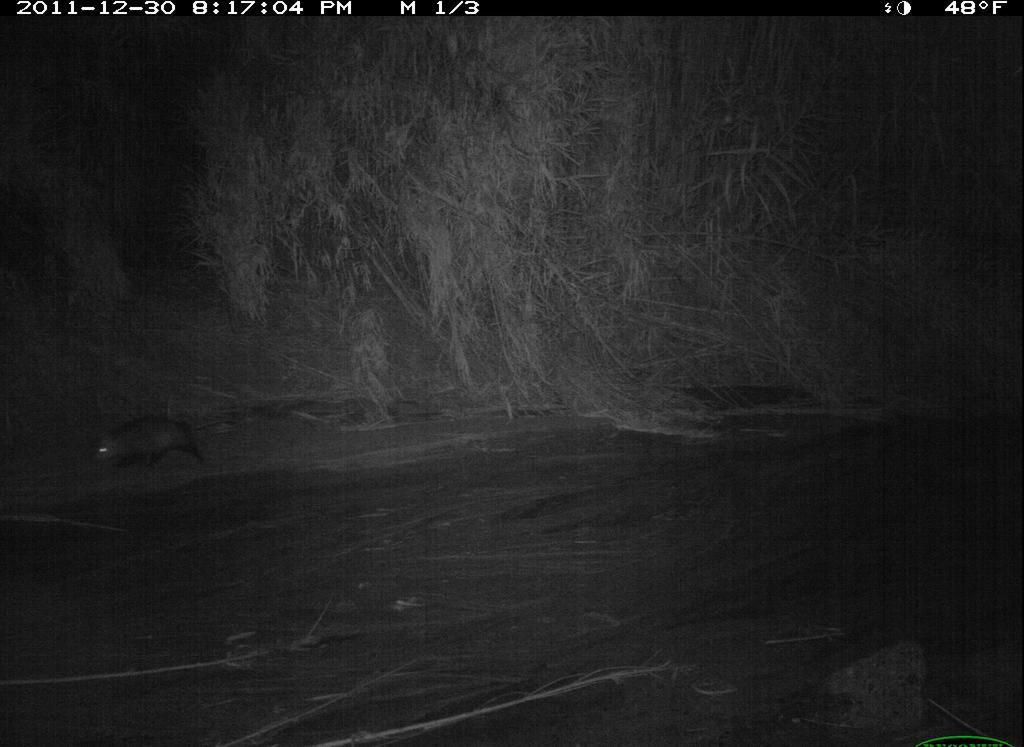opossum: (75, 402, 207, 495)
